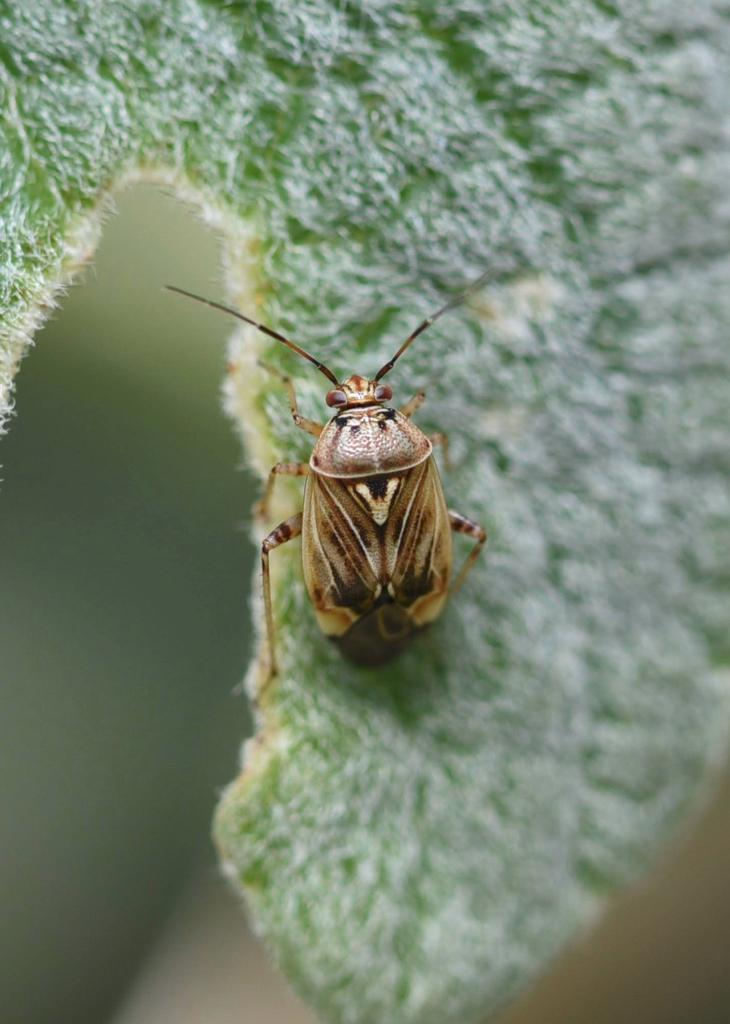plant_bugs: (120, 231, 568, 760)
